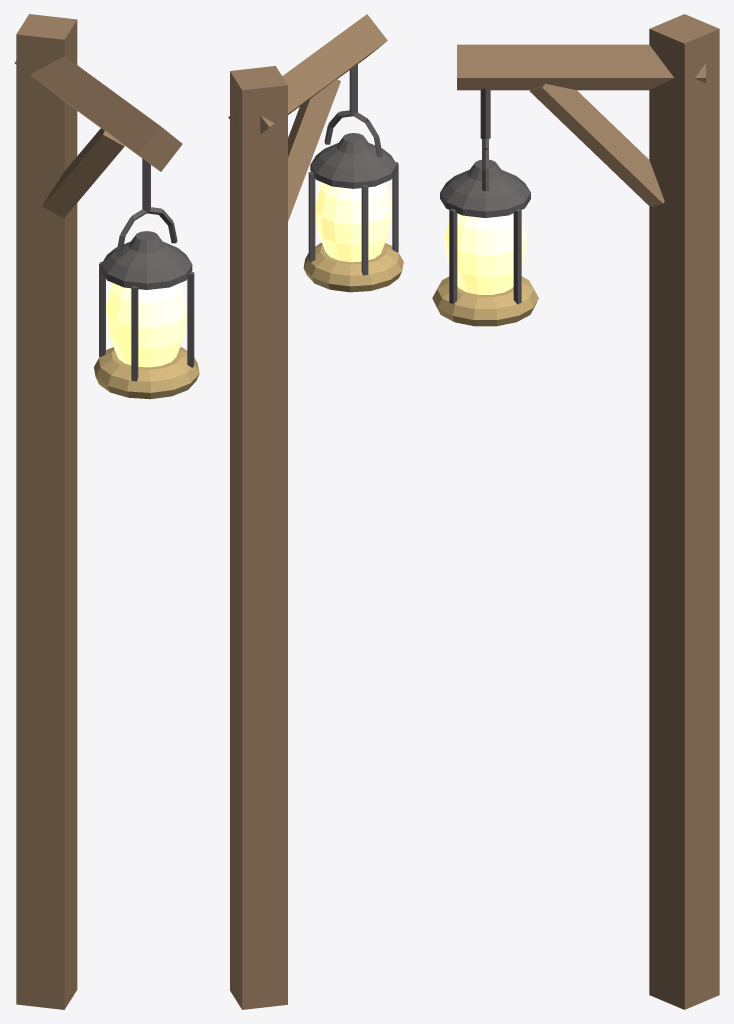
File: lamp-oil-post.glb
3 views of the same model, side by side, from view 1: azimuth 30°, elevation 25°; view 2: azimuth 150°, elevation 25°; view 3: azimuth 270°, elevation 25° (orthographic). The views are drawn at different scales.
Parts seen in each view (by area): view 1: lamp-oil-post; view 2: lamp-oil-post; view 3: lamp-oil-post.
Boxes of the visible parts, x1=… form: lamp-oil-post: x1=14, y1=14, x2=199, y2=1009; lamp-oil-post: x1=228, y1=14, x2=403, y2=1009; lamp-oil-post: x1=432, y1=14, x2=719, y2=1009.
Bounding box in the file's own units: 0.1462 × 1.5 × 0.4045.
